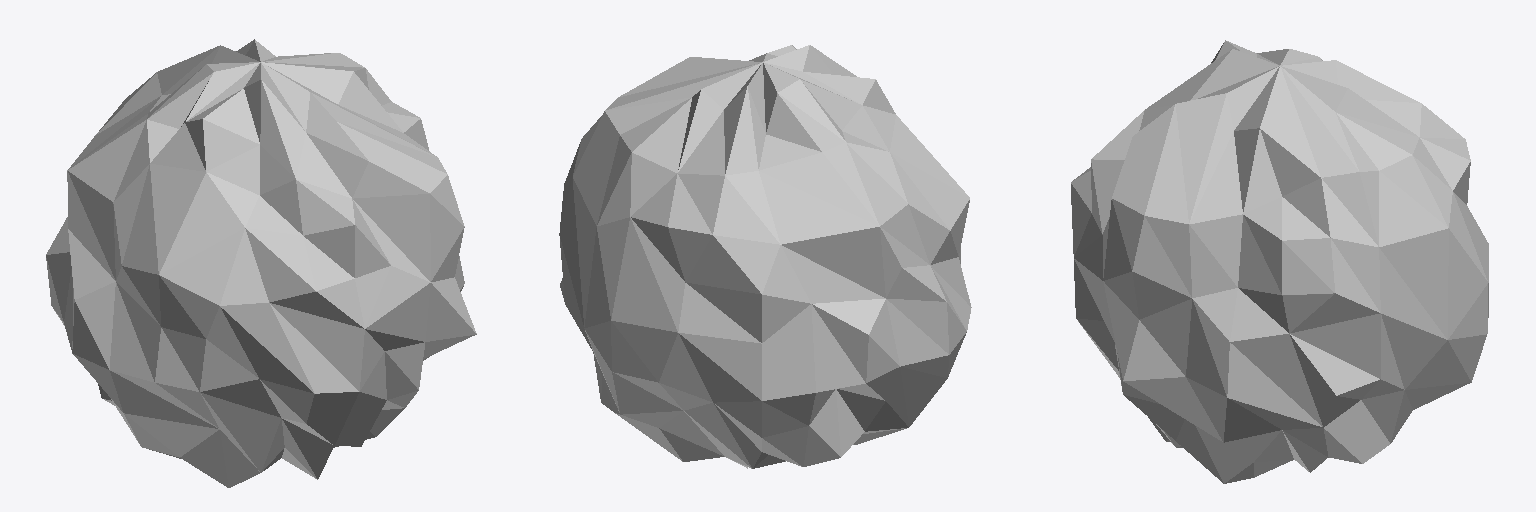
Rendered from moon.obj.
3 renders of one model, left to right at view 1: azimuth 30°, elevation 25°; view 2: azimuth 150°, elevation 25°; view 3: azimuth 270°, elevation 25°, orthographic.
Visible parts, largest first — view 1: Sphere.1; view 2: Sphere.1; view 3: Sphere.1.
Part boxes in pixels (left/top/right/bottom): Sphere.1: left=46, top=39, right=476, bottom=487; Sphere.1: left=559, top=45, right=971, bottom=468; Sphere.1: left=1071, top=40, right=1488, bottom=483.
Bounding box in the file's own units: 516 × 536 × 512.